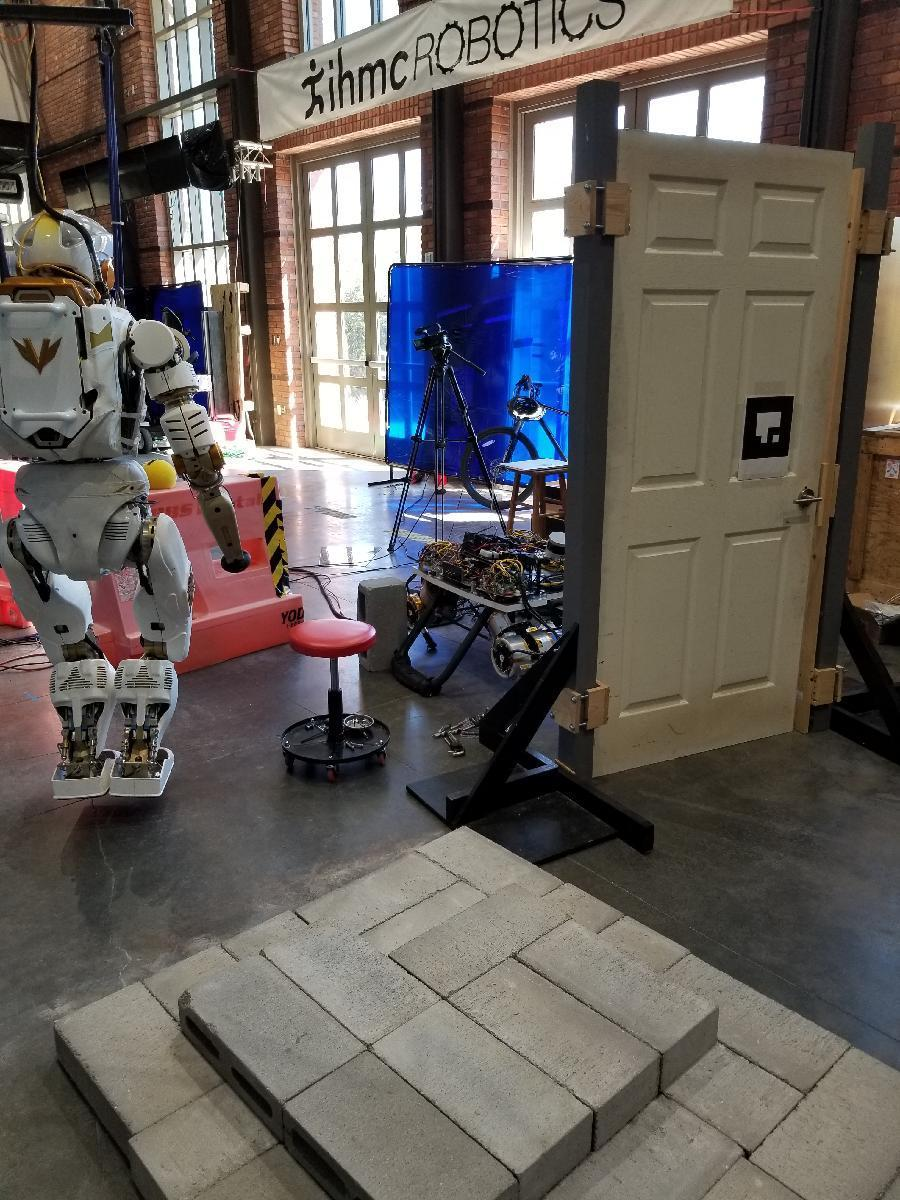door: (606, 128, 813, 761)
handle: (793, 485, 824, 510)
